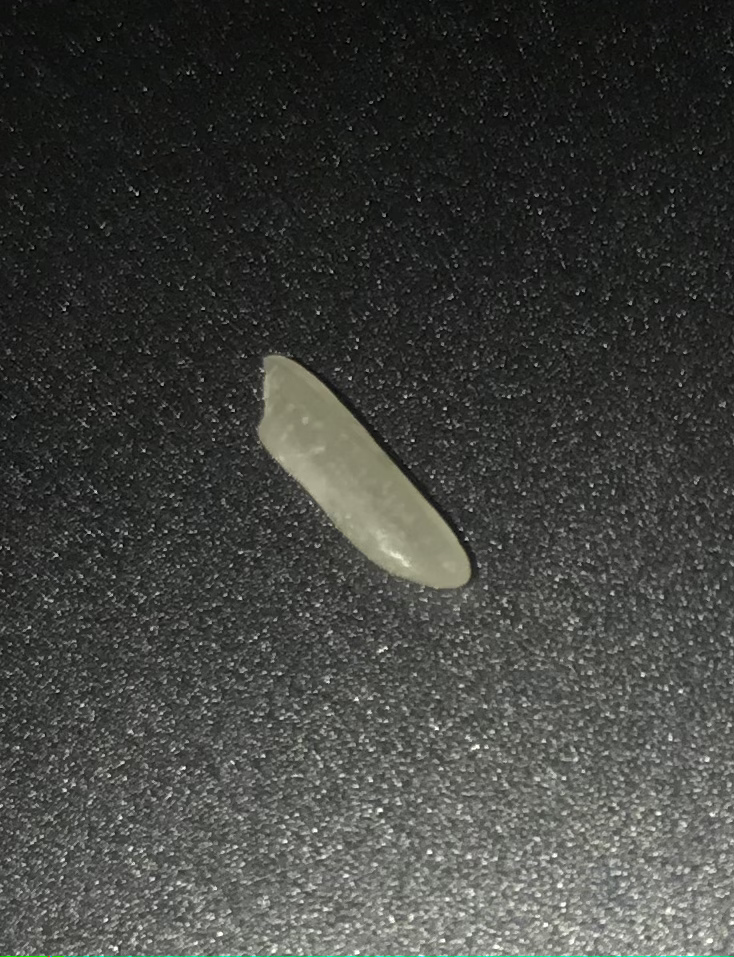Gao Thom My: (242, 332, 509, 604)
